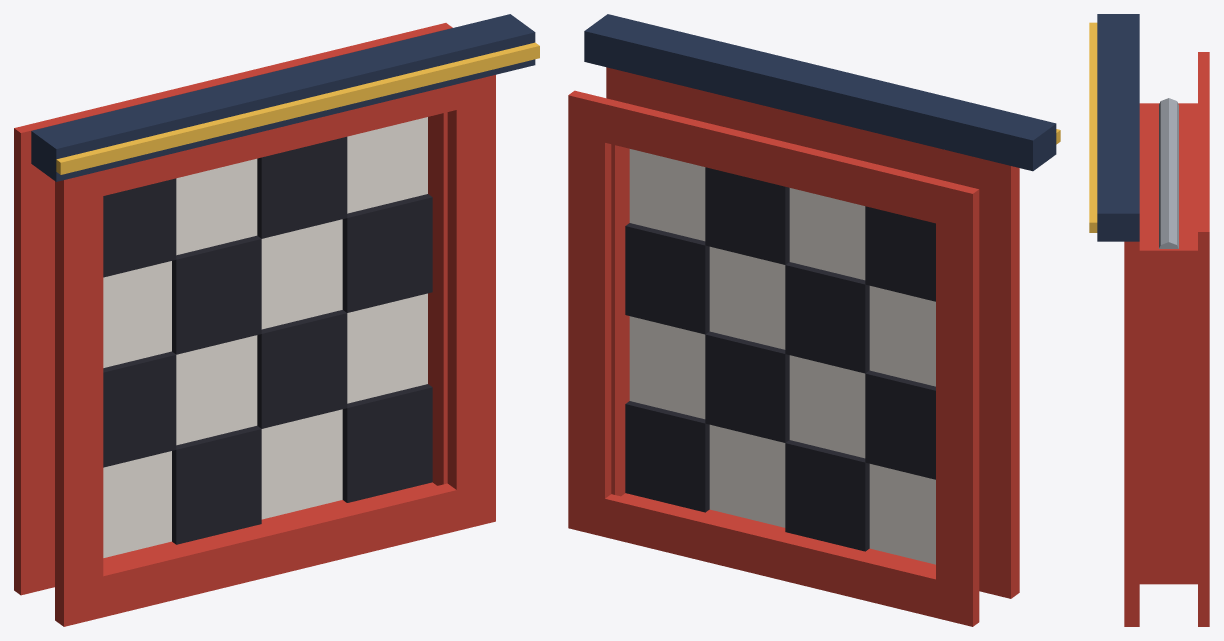
File: CatCafe_CatFlap_FinishLine.glb
3 views of the same model, side by side, from view 1: azimuth 30°, elevation 25°; view 2: azimuth 150°, elevation 25°; view 3: azimuth 270°, elevation 25° (orthographic). The views are drawn at different scales.
Parts seen in each view (by area): view 1: CatCafe_CatFlap_FinishLine, CatCafe_CatFlap_FinishLine_Flap; view 2: CatCafe_CatFlap_FinishLine, CatCafe_CatFlap_FinishLine_Flap; view 3: CatCafe_CatFlap_FinishLine, CatCafe_CatFlap_FinishLine_Flap.
Part boxes in pixels (bbox=[...]): CatCafe_CatFlap_FinishLine: bbox=[14, 14, 539, 626]; CatCafe_CatFlap_FinishLine_Flap: bbox=[103, 117, 432, 557]; CatCafe_CatFlap_FinishLine: bbox=[568, 14, 1060, 626]; CatCafe_CatFlap_FinishLine_Flap: bbox=[625, 149, 935, 564]; CatCafe_CatFlap_FinishLine: bbox=[1089, 14, 1209, 626]; CatCafe_CatFlap_FinishLine_Flap: bbox=[1159, 98, 1178, 248].
Size of the model in its own units: 2.44 by 2.41 by 0.62.
1 material, 1 textured.
